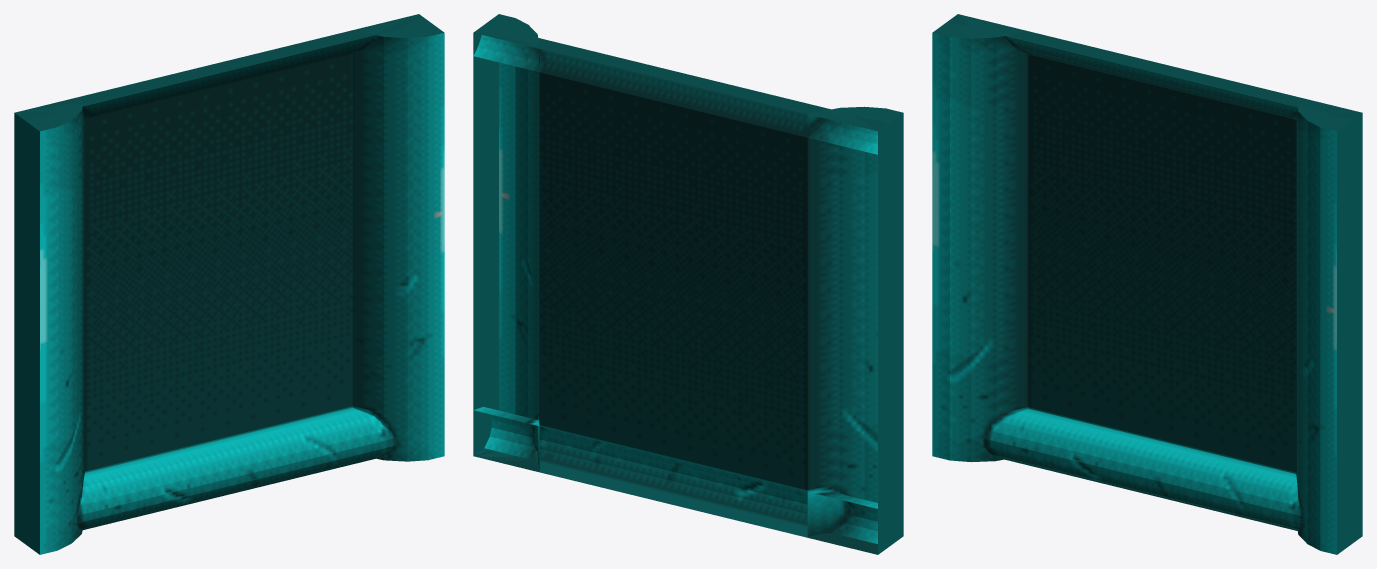
The model's file is stor1_5.fbx.
3 views of the same model, side by side, from view 1: azimuth 30°, elevation 25°; view 2: azimuth 150°, elevation 25°; view 3: azimuth 330°, elevation 25° (orthographic).
Parts seen in each view (by area): view 1: stor1_5_mesh; view 2: stor1_5_mesh; view 3: stor1_5_mesh.
Boxes of the visible parts, x1,y1,x2,y2 form: stor1_5_mesh: (14, 14, 444, 554); stor1_5_mesh: (473, 14, 903, 554); stor1_5_mesh: (932, 14, 1362, 554).
Size of the model in its own units: 256 by 256 by 28.
